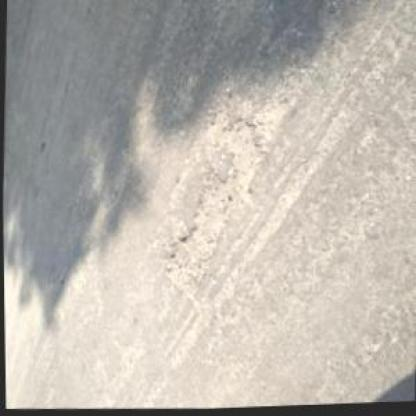pothole: (158, 89, 291, 302)
